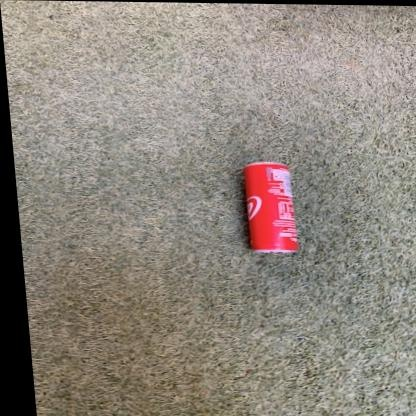trash: (244, 162, 298, 252)
